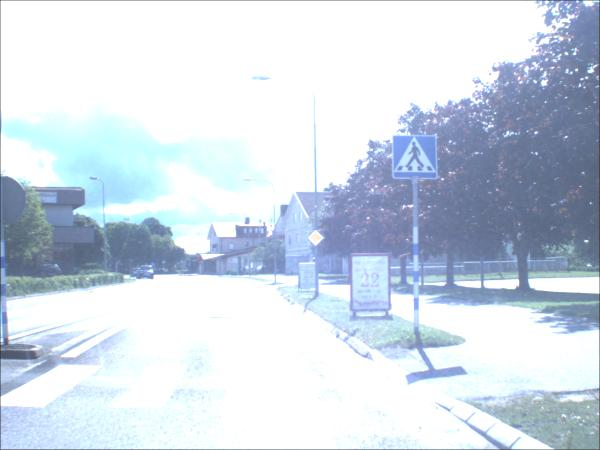PEDESTRIAN_CROSSING: (394, 137, 438, 180)
PRIORITY_ROAD: (309, 231, 327, 248)
